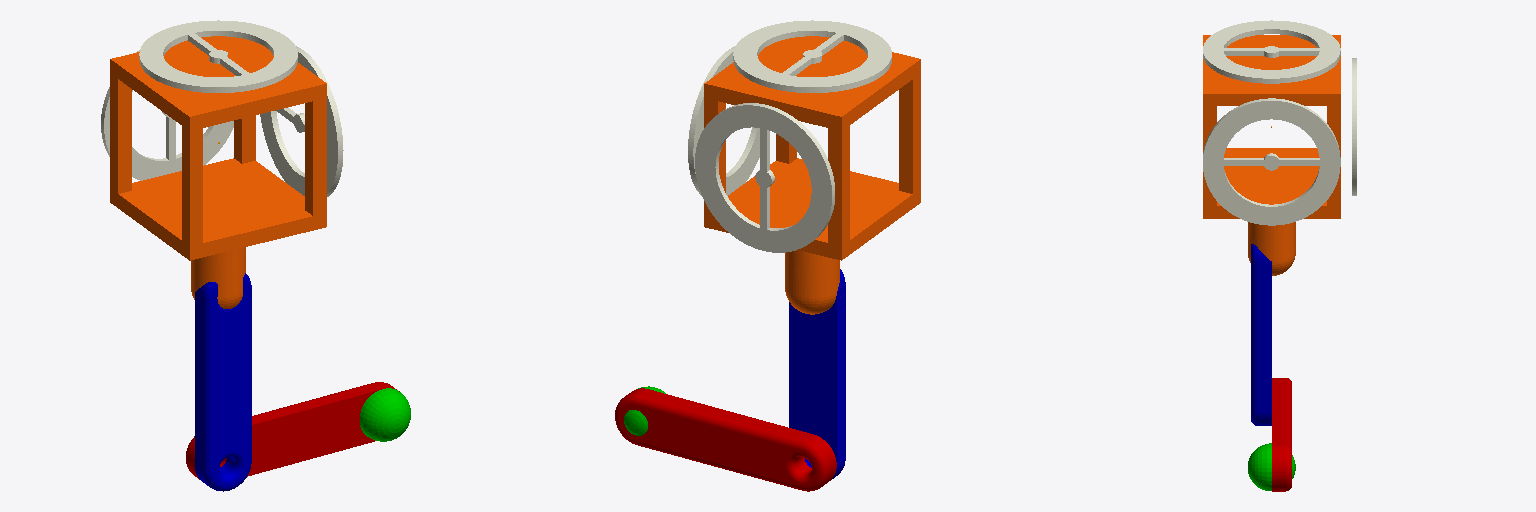
robot.urdf — jey:
<?xml version="1.0" ?>
<!-- =================================================================================== -->
<!-- |    This document was autogenerated by xacro from jey.urdf.xacro                 | -->
<!-- |    EDITING THIS FILE BY HAND IS NOT RECOMMENDED                                 | -->
<!-- =================================================================================== -->
<robot name="jey">
  <material name="black">
    <color rgba="0.0 0.0 0.0 1.0"/>
  </material>
  <material name="blue">
    <color rgba="0.0 0.0 0.8 1.0"/>
  </material>
  <material name="green">
    <color rgba="0.0 0.8 0.0 1.0"/>
  </material>
  <material name="grey">
    <color rgba="0.2 0.2 0.2 1.0"/>
  </material>
  <material name="silver">
    <color rgba="0.9137254901960784 0.9137254901960784 0.8470588235294118 1.0"/>
  </material>
  <material name="orange">
    <color rgba="1.0 0.4235294117647059 0.0392156862745098 1.0"/>
  </material>
  <material name="brown">
    <color rgba="0.8705882352941177 0.8117647058823529 0.7647058823529411 1.0"/>
  </material>
  <material name="red">
    <color rgba="0.8 0.0 0.0 1.0"/>
  </material>
  <material name="white">
    <color rgba="1.0 1.0 1.0 1.0"/>
  </material>
  <!-- ros_control plugin -->
  <gazebo>
    <plugin filename="libgazebo_ros_control.so" name="gazebo_ros_control">
      <robotNamespace>/jey_gazebo</robotNamespace>
      <robotSimType>gazebo_ros_control/DefaultRobotHWSim</robotSimType>
    </plugin>
  </gazebo>
  <!-- Show the trajectory of trunk center. -->
  <gazebo>
    <plugin filename="libLinkPlot3DPlugin.so" name="3dplot">
      <frequency>10</frequency>
      <plot>
        <link>base_link</link>
        <pose>0 0 0 0 0 0</pose>
        <material>Gazebo/Yellow</material>
      </plot>
    </plugin>
  </gazebo>
  <gazebo>
    <plugin filename="libgazebo_ros_force.so" name="gazebo_ros_force">
      <bodyName>trunk</bodyName>
      <topicName>/apply_force/trunk</topicName>
    </plugin>
  </gazebo>
  <gazebo reference="imu_link">
    <gravity>true</gravity>
    <sensor name="imu_sensor" type="imu">
      <always_on>true</always_on>
      <update_rate>1000</update_rate>
      <visualize>true</visualize>
      <topic>__default_topic__</topic>
      <plugin filename="libgazebo_ros_imu_sensor.so" name="imu_plugin">
        <topicName>trunk_imu</topicName>
        <bodyName>imu_link</bodyName>
        <updateRateHZ>1000.0</updateRateHZ>
        <gaussianNoise>0.0</gaussianNoise>
        <xyzOffset>0 0 0</xyzOffset>
        <rpyOffset>0 0 0</rpyOffset>
        <frameName>imu_link</frameName>
      </plugin>
      <pose>0 0 0 0 0 0</pose>
    </sensor>
  </gazebo>
  <gazebo reference="base_link">
    <material>Gazebo/Green</material>
    <turnGravityOff>false</turnGravityOff>
  </gazebo>
  <gazebo reference="trunk">
    <mu1>1.5</mu1>
    <mu2>1.5</mu2>
    <kp value="1000000.0"/>
    <kd value="1.0"/>
  </gazebo>
  <gazebo reference="imu_link">
    <material>Gazebo/Red</material>
  </gazebo>
  <gazebo reference="X_RW">
    <material>Gazebo/DarkGrey</material>
  </gazebo>
  <gazebo reference="Y_RW">
    <material>Gazebo/DarkGrey</material>
  </gazebo>
  <gazebo reference="Z_RW">
    <material>Gazebo/DarkGrey</material>
  </gazebo>
  <gazebo reference="foot">
    <mu1>1.0</mu1>
    <mu2>1.0</mu2>
    <self_collide>1</self_collide>
    <material>Gazebo/DarkGrey</material>
    <kp value="1000000.0"/>
    <kd value="100"/>
    <maxVel>100.0</maxVel>
  </gazebo>
  <!-- <link name="world"/>
    <joint name="base_static_joint" type="fixed">
        <origin rpy="0 0 0" xyz="0 0 0"/>
        <parent link="world"/>
        <child link="base"/>
    </joint> -->
  <link name="base_link">
    <visual>
      <origin rpy="0 0 0" xyz="0 0 0"/>
      <geometry>
        <box size="0.001 0.001 0.001"/>
      </geometry>
    </visual>
  </link>
  <joint name="floating_base" type="fixed">
    <origin rpy="0 0 0" xyz="0 0 0"/>
    <parent link="base_link"/>
    <child link="trunk"/>
  </joint>
  <link name="trunk">
    <visual>
      <origin rpy="0 0 0" xyz="0 0 0"/>
      <geometry>
        <mesh filename="package://example-robot-data/robots/jey_description/meshes/MainBody.stl" scale="1 1 1"/>
      </geometry>
      <material name="orange"/>
    </visual>
    <collision>
      <origin rpy="0 0 0" xyz="0 0 0"/>
      <geometry>
        <mesh filename="package://example-robot-data/robots/jey_description/meshes/MainBody.stl" scale="1 1 1"/>
      </geometry>
    </collision>
    <inertial>
      <origin rpy="0 0 0" xyz="0.0 0.0 -0.01649"/>
      <mass value="0.786592"/>
      <inertia ixx="0.002884" ixy="0.0" ixz="0.0" iyy="0.002884" iyz="0.0" izz="0.001275"/>
    </inertial>
  </link>
  <joint name="imu_joint" type="fixed">
    <parent link="trunk"/>
    <child link="imu_link"/>
    <origin rpy="0 0 0" xyz="0 0 0"/>
  </joint>
  <link name="imu_link">
    <inertial>
      <mass value="0.001"/>
      <origin rpy="0 0 0" xyz="0 0 0"/>
      <inertia ixx="0.0001" ixy="0" ixz="0" iyy="0.0001" iyz="0" izz="0.0001"/>
    </inertial>
    <visual>
      <origin rpy="0 0 0" xyz="0 0 0"/>
      <geometry>
        <box size="0.001 0.001 0.001"/>
      </geometry>
      <material name="red"/>
    </visual>
    <collision>
      <origin rpy="0 0 0" xyz="0 0 0"/>
      <geometry>
        <box size=".001 .001 .001"/>
      </geometry>
    </collision>
  </link>
  <!-- Reactionwheel in the X axis -->
  <joint name="X_RW_joint" type="continuous">
    <origin rpy="0 1.5707963267948966 0" xyz="0.06 0 0"/>
    <parent link="trunk"/>
    <child link="X_RW"/>
    <axis xyz="0 0 1"/>
    <dynamics damping="0" friction="0"/>
    <limit effort="91.0035" velocity="19.69"/>
  </joint>
  <link name="X_RW">
    <visual>
      <origin rpy="0 0 0" xyz="0 0 0"/>
      <geometry>
        <mesh filename="package://example-robot-data/robots/jey_description/meshes/Reactionwheel.stl" scale="1 1 1"/>
      </geometry>
      <material name="silver"/>
    </visual>
    <collision>
      <origin rpy="0 0 0" xyz="0 0 0"/>
      <geometry>
        <mesh filename="package://example-robot-data/robots/jey_description/meshes/Reactionwheel.stl" scale="1 1 1"/>
      </geometry>
    </collision>
    <inertial>
      <origin rpy="0 0 0" xyz="0.0 0.0 0.0"/>
      <mass value="0.047629"/>
      <inertia ixx="4.1892559e-05" ixy="0.0" ixz="0.0" iyy="4.0366712e-05" iyz="0.0" izz="8.213226e-05"/>
    </inertial>
  </link>
  <transmission name="X_RW_tran">
    <type>transmission_interface/SimpleTransmission</type>
    <joint name="X_RW_joint">
      <hardwareInterface>hardware_interface/EffortJointInterface</hardwareInterface>
    </joint>
    <actuator name="X_RW_motor">
      <hardwareInterface>hardware_interface/EffortJointInterface</hardwareInterface>
      <mechanicalReduction>1</mechanicalReduction>
    </actuator>
  </transmission>
  <!-- Reactionwheel in the Y axis -->
  <joint name="Y_RW_joint" type="continuous">
    <origin rpy=" -1.5707963267948966 0 0" xyz="0 0.06 0"/>
    <parent link="trunk"/>
    <child link="Y_RW"/>
    <axis xyz="0 0 1"/>
    <dynamics damping="0" friction="0"/>
    <limit effort="91.0035" velocity="19.69"/>
  </joint>
  <link name="Y_RW">
    <visual>
      <origin rpy="0 0 0" xyz="0 0 0"/>
      <geometry>
        <mesh filename="package://example-robot-data/robots/jey_description/meshes/Reactionwheel.stl" scale="1 1 1"/>
      </geometry>
      <material name="silver"/>
    </visual>
    <collision>
      <origin rpy="0 0 0" xyz="0 0 0"/>
      <geometry>
        <mesh filename="package://example-robot-data/robots/jey_description/meshes/Reactionwheel.stl" scale="1 1 1"/>
      </geometry>
    </collision>
    <inertial>
      <origin rpy="0 0 0" xyz="0.0 0.0 0.0"/>
      <mass value="0.047629"/>
      <inertia ixx="4.1892559e-05" ixy="0.0" ixz="0.0" iyy="4.0366712e-05" iyz="0.0" izz="8.213226e-05"/>
    </inertial>
  </link>
  <transmission name="Y_RW_tran">
    <type>transmission_interface/SimpleTransmission</type>
    <joint name="Y_RW_joint">
      <hardwareInterface>hardware_interface/EffortJointInterface</hardwareInterface>
    </joint>
    <actuator name="Y_RW_motor">
      <hardwareInterface>hardware_interface/EffortJointInterface</hardwareInterface>
      <mechanicalReduction>1</mechanicalReduction>
    </actuator>
  </transmission>
  <!-- Reactionwheel in the Z axis -->
  <joint name="Z_RW_joint" type="continuous">
    <origin rpy="0 0 0" xyz="0 0 0.06"/>
    <parent link="trunk"/>
    <child link="Z_RW"/>
    <axis xyz="0 0 1"/>
    <dynamics damping="0" friction="0"/>
    <limit effort="91.0035" velocity="19.69"/>
  </joint>
  <link name="Z_RW">
    <visual>
      <origin rpy="0 0 0" xyz="0 0 0"/>
      <geometry>
        <mesh filename="package://example-robot-data/robots/jey_description/meshes/Reactionwheel.stl" scale="1 1 1"/>
      </geometry>
      <material name="silver"/>
    </visual>
    <collision>
      <origin rpy="0 0 0" xyz="0 0 0"/>
      <geometry>
        <mesh filename="package://example-robot-data/robots/jey_description/meshes/Reactionwheel.stl" scale="1 1 1"/>
      </geometry>
    </collision>
    <inertial>
      <origin rpy="0 0 0" xyz="0.0 0.0 0.0"/>
      <mass value="0.047629"/>
      <inertia ixx="4.1892559e-05" ixy="0.0" ixz="0.0" iyy="4.0366712e-05" iyz="0.0" izz="8.213226e-05"/>
    </inertial>
  </link>
  <transmission name="Z_RW_tran">
    <type>transmission_interface/SimpleTransmission</type>
    <joint name="Z_RW_joint">
      <hardwareInterface>hardware_interface/EffortJointInterface</hardwareInterface>
    </joint>
    <actuator name="Z_RW_motor">
      <hardwareInterface>hardware_interface/EffortJointInterface</hardwareInterface>
      <mechanicalReduction>1</mechanicalReduction>
    </actuator>
  </transmission>
  <!-- thigh joint -->
  <joint name="thigh_joint" type="revolute">
    <origin rpy="1.5707963267948966 0 0" xyz="0 0 -0.1"/>
    <parent link="trunk"/>
    <child link="thigh"/>
    <axis xyz="0 0 1"/>
    <dynamics damping="0" friction="0"/>
    <limit effort="93.33" lower="-1.0" upper="3.5" velocity="23.32"/>
  </joint>
  <link name="thigh">
    <visual>
      <origin rpy="0 0 0" xyz="0 0 0.0"/>
      <geometry>
        <mesh filename="package://example-robot-data/robots/jey_description/meshes/Thigh.stl" scale="1 1 1"/>
      </geometry>
      <material name="blue"/>
    </visual>
    <collision>
      <origin rpy="0 0 0" xyz="0 0 0"/>
      <geometry>
        <mesh filename="package://example-robot-data/robots/jey_description/meshes/Thigh.stl" scale="1 1 1"/>
      </geometry>
    </collision>
    <inertial>
      <origin rpy="0 0 0" xyz="0.0 0.0 0.0"/>
      <mass value="0.047629"/>
      <inertia ixx="4.1892559e-05" ixy="0.0" ixz="0.0" iyy="4.0366712e-05" iyz="0.0" izz="8.213226e-05"/>
    </inertial>
  </link>
  <transmission name="thigh_tran">
    <type>transmission_interface/SimpleTransmission</type>
    <joint name="thigh_joint">
      <hardwareInterface>hardware_interface/EffortJointInterface</hardwareInterface>
    </joint>
    <actuator name="thigh_motor">
      <hardwareInterface>hardware_interface/EffortJointInterface</hardwareInterface>
      <mechanicalReduction>1</mechanicalReduction>
    </actuator>
  </transmission>
  <!-- calf joint -->
  <joint name="calf_joint" type="revolute">
    <!-- <origin rpy="0 ${PI} ${-PI/2.0}" xyz="0 -0.12 0"/> -->
    <origin rpy="3.141592653589793 0 0" xyz="0 -0.12 0"/>
    <parent link="thigh"/>
    <child link="calf"/>
    <axis xyz="0 0 1"/>
    <dynamics damping="0" friction="0"/>
    <limit effort="140" lower="-2.6" upper="-0.6" velocity="15.55"/>
  </joint>
  <link name="calf">
    <visual>
      <origin rpy="0 0 0" xyz="0 0 0.0"/>
      <geometry>
        <mesh filename="package://example-robot-data/robots/jey_description/meshes/Calf.stl" scale="1 1 1"/>
      </geometry>
      <material name="red"/>
    </visual>
    <collision>
      <origin rpy="0 0 0" xyz="0 0 0"/>
      <geometry>
        <mesh filename="package://example-robot-data/robots/jey_description/meshes/Calf.stl" scale="1 1 1"/>
      </geometry>
    </collision>
    <inertial>
      <origin rpy="0 0 0" xyz="0.0 0.0 0.0"/>
      <mass value="0.047629"/>
      <inertia ixx="4.1892559e-05" ixy="0.0" ixz="0.0" iyy="4.0366712e-05" iyz="0.0" izz="8.213226e-05"/>
    </inertial>
  </link>
  <transmission name="calf_tran">
    <type>transmission_interface/SimpleTransmission</type>
    <joint name="calf_joint">
      <hardwareInterface>hardware_interface/EffortJointInterface</hardwareInterface>
    </joint>
    <actuator name="calf_motor">
      <hardwareInterface>hardware_interface/EffortJointInterface</hardwareInterface>
      <mechanicalReduction>1</mechanicalReduction>
    </actuator>
  </transmission>
  <!-- contact point -->
  <joint name="$foot_fixed" type="fixed">
    <origin rpy="0 0 0" xyz="0 0.12 0"/>
    <parent link="calf"/>
    <child link="foot"/>
  </joint>
  <link name="foot">
    <visual>
      <origin rpy="0 0 0" xyz="0 0 0"/>
      <geometry>
        <sphere radius="0.0175"/>
      </geometry>
      <material name="green"/>
    </visual>
    <collision>
      <origin rpy="0 0 0" xyz="0 0 0"/>
      <geometry>
        <sphere radius="0.0175"/>
      </geometry>
    </collision>
  </link>
</robot>

--- What the picture shows (computed from the rendered views, not written in the file) ---
The picture shows the robot from 3 angles, left to right: view 1: azimuth 30°, elevation 25°; view 2: azimuth 150°, elevation 25°; view 3: azimuth 270°, elevation 25°; orthographic projection.
Robot: jey — 9 links, 8 joints (2 revolute, 3 continuous, 3 fixed); root link base_link; default pose: joints at zero except 1 at the middle of their limits (calf_joint = -1.6).
Links seen in each view (by area): view 1: trunk, thigh, calf, Z_RW, X_RW, Y_RW, foot; view 2: trunk, calf, Y_RW, thigh, Z_RW, X_RW, foot; view 3: trunk, X_RW, Z_RW, thigh, calf, foot, Y_RW.
Link boxes in pixels (<box>): trunk: <box>110,36,326,308</box>; thigh: <box>195,273,251,491</box>; calf: <box>186,382,399,479</box>; Z_RW: <box>139,20,297,92</box>; X_RW: <box>260,46,343,196</box>; Y_RW: <box>101,50,233,180</box>; foot: <box>359,388,410,441</box>; trunk: <box>704,36,920,314</box>; calf: <box>615,388,836,491</box>; Y_RW: <box>695,103,834,252</box>; thigh: <box>789,269,845,478</box>; Z_RW: <box>733,20,891,92</box>; X_RW: <box>688,46,759,195</box>; foot: <box>624,386,665,435</box>; trunk: <box>1203,35,1340,275</box>; X_RW: <box>1203,98,1340,225</box>; Z_RW: <box>1203,20,1340,83</box>; thigh: <box>1251,244,1271,425</box>; calf: <box>1272,378,1291,491</box>; foot: <box>1248,443,1295,490</box>; Y_RW: <box>1352,58,1356,195</box>.
Size in the robot's own frame: 0.1874 by 0.112 by 0.2995 metres.
Meshes: 4 distinct files referenced, 6 mesh visuals loaded (4 binary STL).
